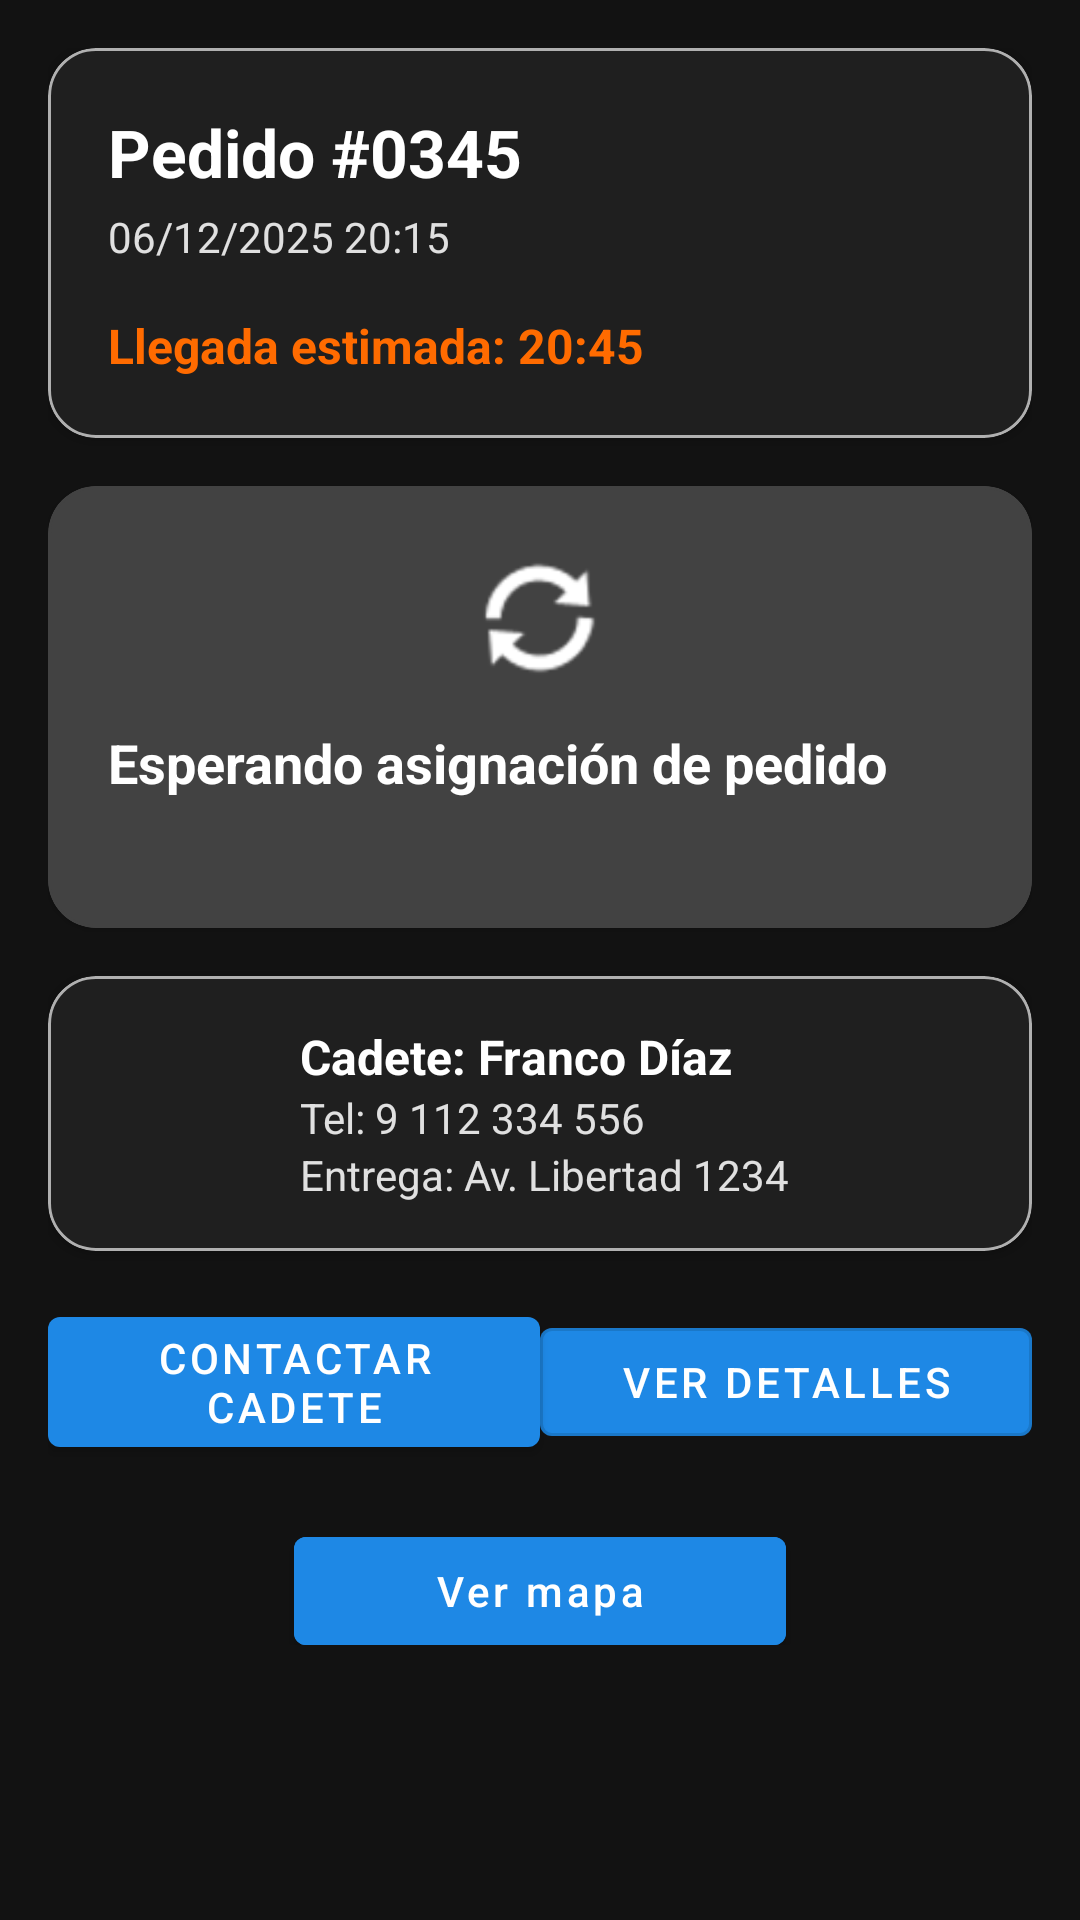

Icon click points for this 1080 × 1920 phone screenshot, format (x=x, y=y):
popup sync: (x=540, y=618)
